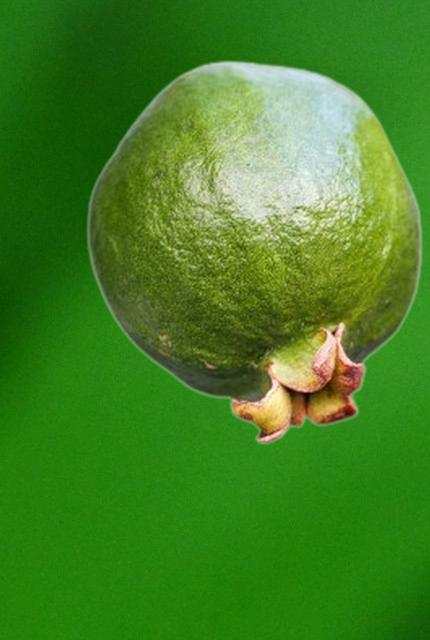guava: (85, 60, 422, 444)
